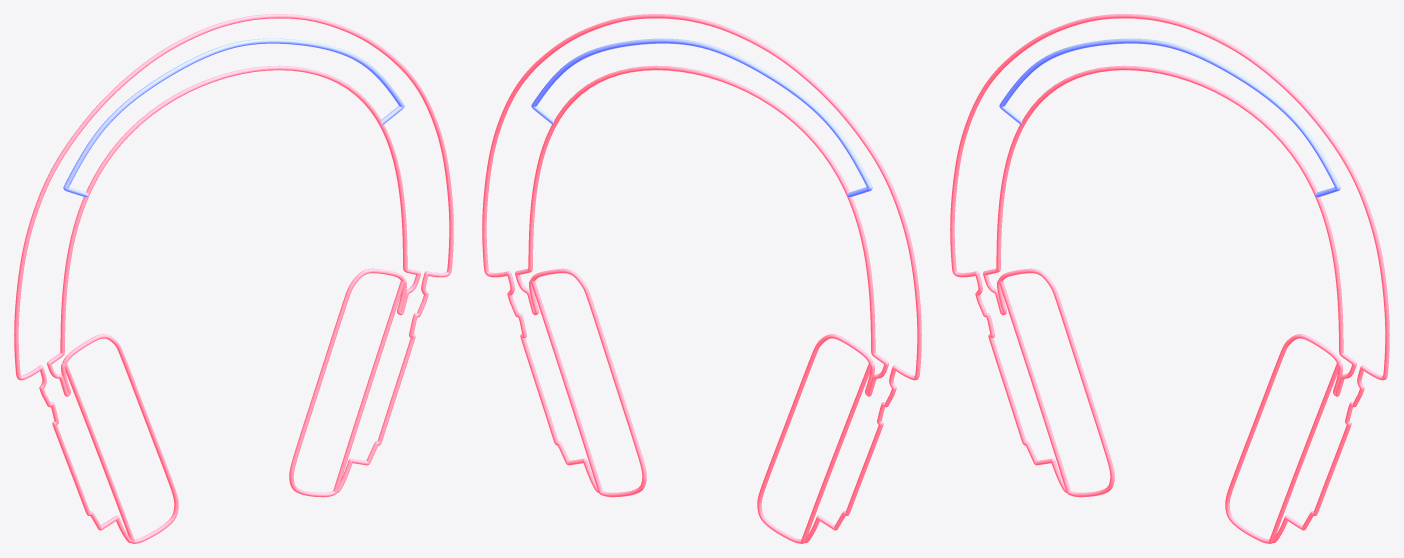
Rendered from headphone_neon_sign_-_headset.glb.
3 views of the same model, side by side, from view 1: azimuth 30°, elevation 25°; view 2: azimuth 150°, elevation 25°; view 3: azimuth 330°, elevation 25° (orthographic).
Visible parts, largest first — view 1: NurbsPath_0, NurbsPath.001_1; view 2: NurbsPath_0, NurbsPath.001_1; view 3: NurbsPath_0, NurbsPath.001_1.
Boxes of the visible parts, x1,y1,x2,y2 form: NurbsPath_0: [14, 14, 453, 543]; NurbsPath.001_1: [63, 38, 404, 197]; NurbsPath_0: [482, 14, 921, 543]; NurbsPath.001_1: [531, 38, 872, 197]; NurbsPath_0: [950, 14, 1389, 543]; NurbsPath.001_1: [999, 38, 1340, 197].
Bounding box in the file's own units: 1.96 × 2.14 × 0.02.
